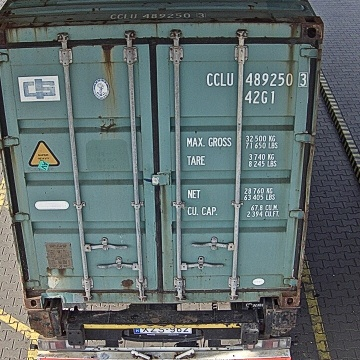serial_id: (207, 73, 308, 86)
